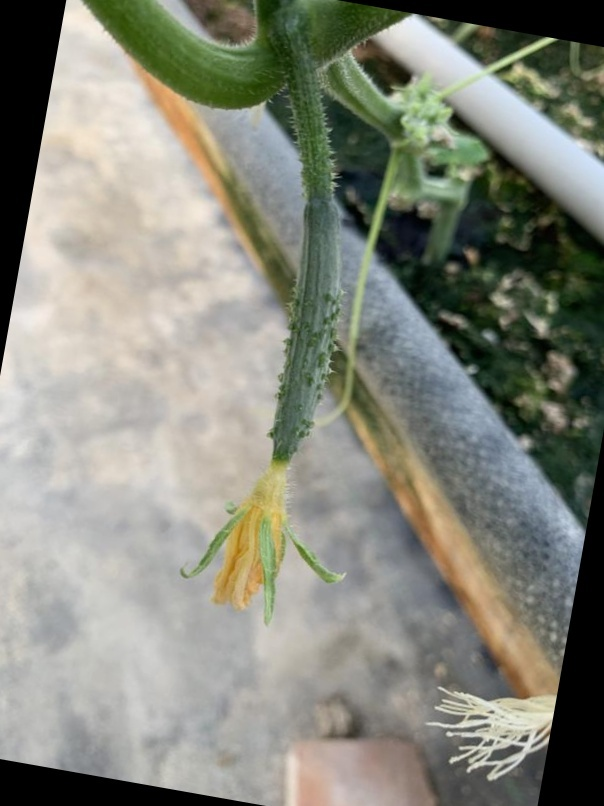bear: (177, 175, 368, 636)
